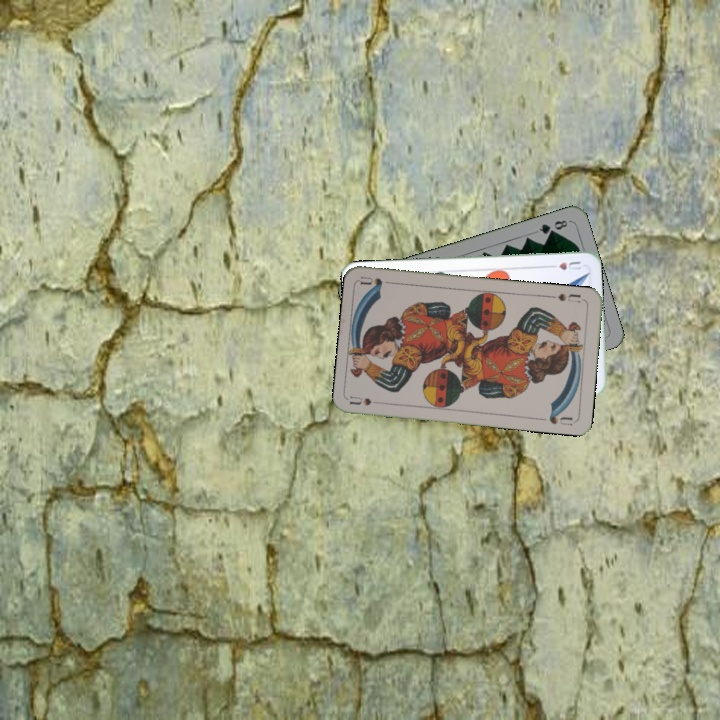G8: (535, 216, 572, 237)
HU: (544, 257, 584, 272)
SU: (347, 392, 388, 408), (546, 289, 583, 305)
